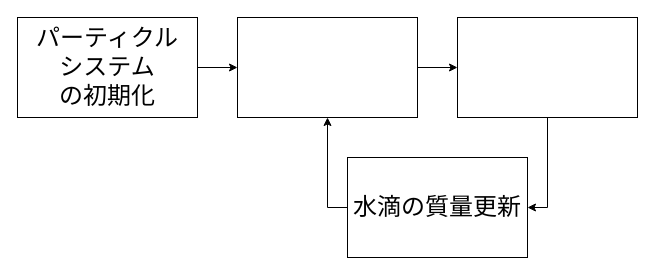
The diagram is 655 pixels wide and 275 high, and some of its shapes have lost their labels. Here are the shapes that lost their labels. From the top down, the centre of each, then its label:
point 327,67: ハイト値の計算
point 547,67: 合体過程
